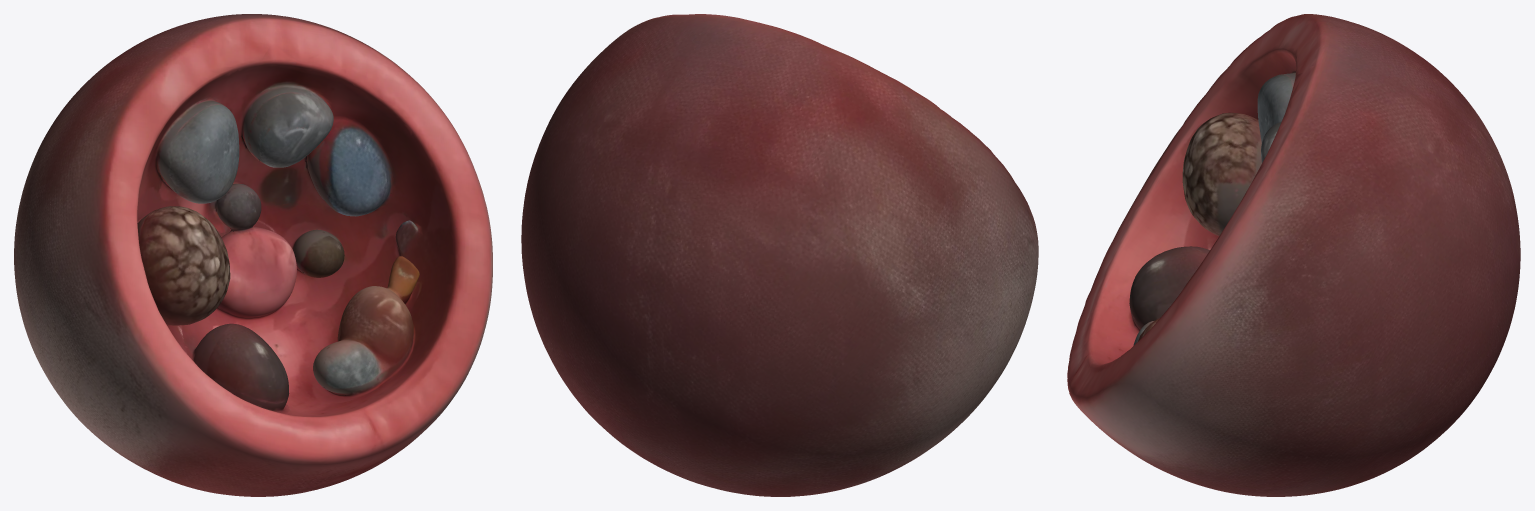
Rendered from vet_v2_path_bladder-stones.glb.
3 renders of one model, left to right at view 1: azimuth 30°, elevation 25°; view 2: azimuth 150°, elevation 25°; view 3: azimuth 270°, elevation 25°, orthographic. The views are drawn at different scales.
Parts seen in each view (by area): view 1: model; view 2: model; view 3: model.
Part boxes in pixels (box(x1,y1,x2,y2)): model: box(14, 14, 492, 496); model: box(521, 14, 1038, 496); model: box(1067, 14, 1520, 496).
Bounding box in the file's own units: 1.9 × 1.9 × 1.78.
1 material, 1 textured.
